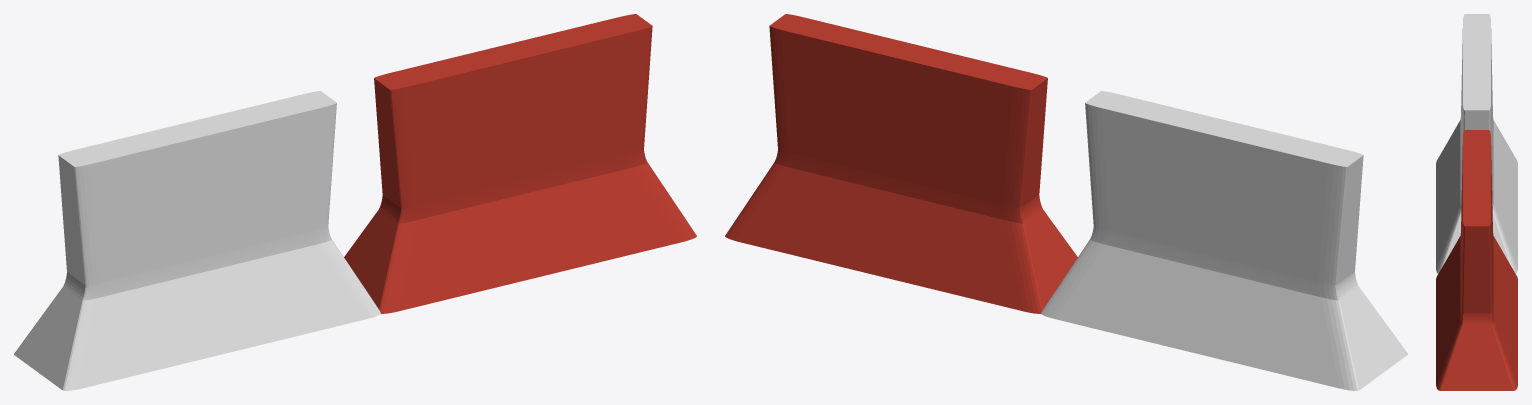
The model's file is roadFencing.fbx.
The picture shows the model from 3 angles, left to right: view 1: azimuth 30°, elevation 25°; view 2: azimuth 150°, elevation 25°; view 3: azimuth 270°, elevation 25°; orthographic projection. The views are drawn at different scales.
Visible parts, largest first — view 1: roadFencing; view 2: roadFencing; view 3: roadFencing.
Boxes of the visible parts, left/top/right/bottom form: roadFencing: left=14, top=14, right=696, bottom=390; roadFencing: left=725, top=14, right=1407, bottom=390; roadFencing: left=1436, top=14, right=1517, bottom=390.
Size of the model in its own units: 483 by 149 by 71.8.
